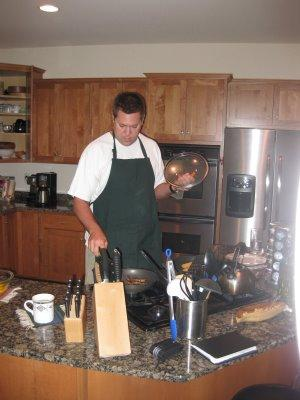person: (67, 92, 185, 277)
